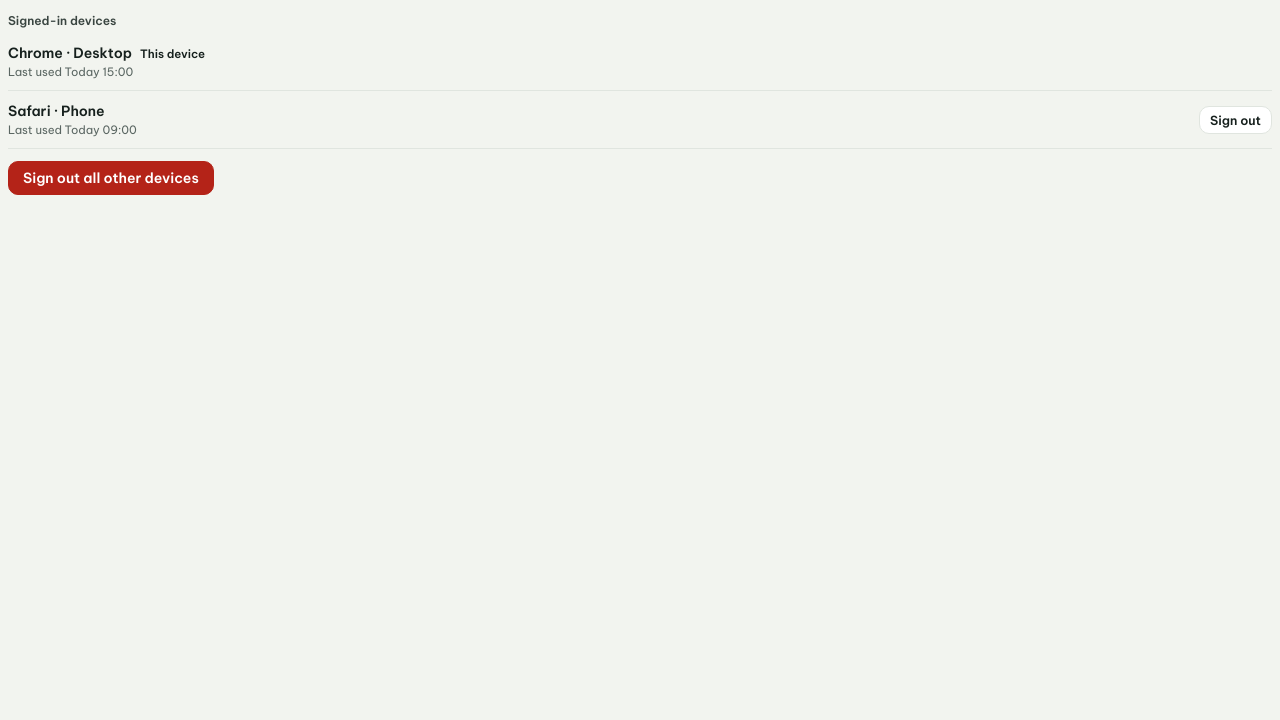
Test case: Sign out all other devices (R18) › with 1 others the dialog names '1 other device'
Click the button "Sign out all other devices": (111, 178) [8,161,214,195]
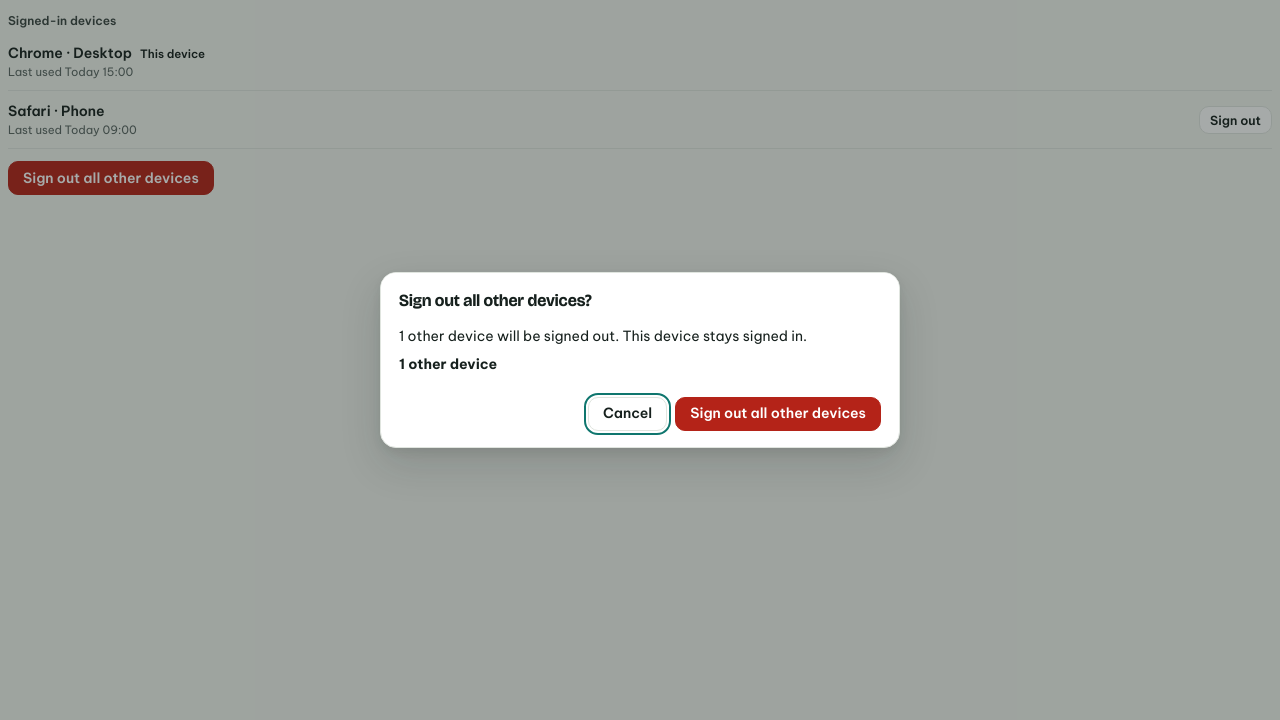
Expected: the dialog shows "1 other device", [399,355,497,373]
